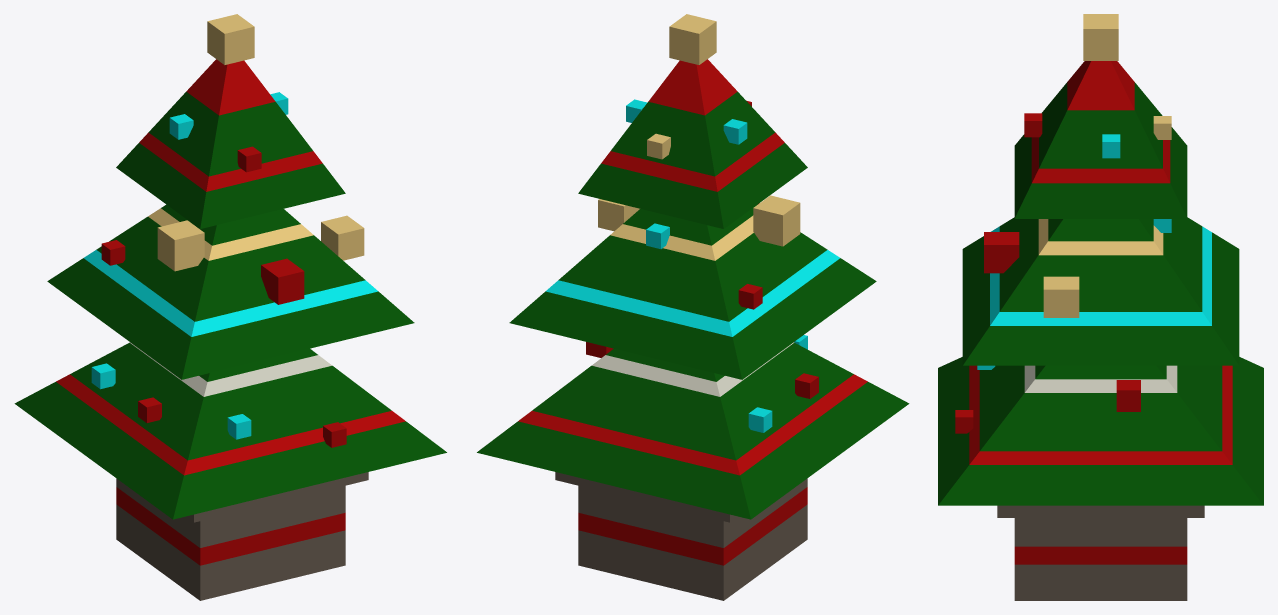
The model's file is 016 Xmas_Tree.fbx.
3 renders of one model, left to right at view 1: azimuth 30°, elevation 25°; view 2: azimuth 150°, elevation 25°; view 3: azimuth 270°, elevation 25°, orthographic. The views are drawn at different scales.
Visible parts, largest first — view 1: Lowpoly_Christmas_Pack_016:pCube15; view 2: Lowpoly_Christmas_Pack_016:pCube15; view 3: Lowpoly_Christmas_Pack_016:pCube15.
Boxes of the visible parts, left/top/right/bottom form: Lowpoly_Christmas_Pack_016:pCube15: left=14, top=14, right=446, bottom=600; Lowpoly_Christmas_Pack_016:pCube15: left=477, top=14, right=909, bottom=600; Lowpoly_Christmas_Pack_016:pCube15: left=938, top=14, right=1263, bottom=600.
Bounding box in the file's own units: 1.89 × 3.47 × 1.89.
